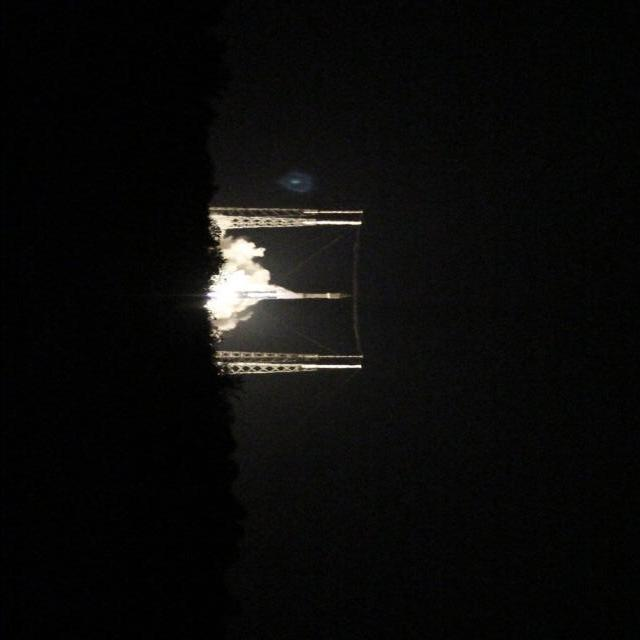missile: (295, 290, 353, 305)
